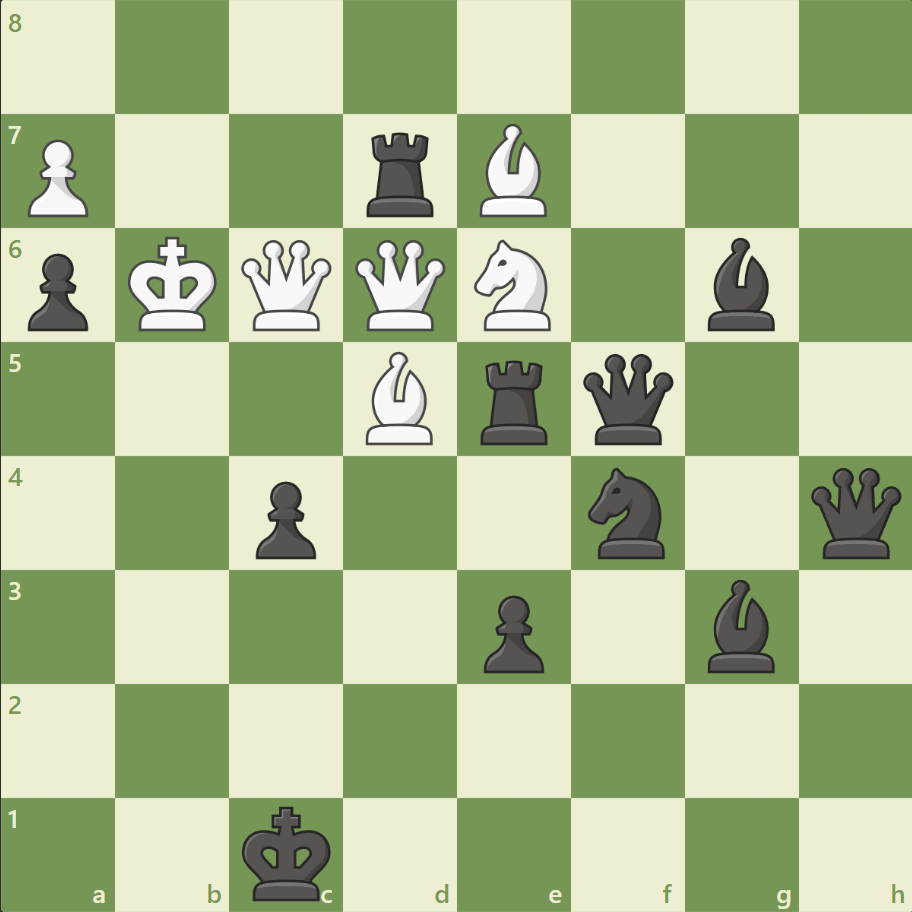B: (471, 120, 555, 222), (358, 347, 442, 449)
K: (124, 231, 224, 339)
N: (465, 234, 562, 337)
P: (20, 132, 95, 223)
Q: (237, 236, 336, 335), (351, 236, 450, 335)
b: (698, 233, 782, 336), (698, 574, 782, 676)
k: (238, 798, 338, 906)
n: (579, 461, 676, 564)
p: (20, 246, 95, 337), (247, 473, 322, 564), (474, 586, 549, 677)
q: (578, 349, 677, 449), (805, 463, 904, 562)
r: (473, 352, 556, 449), (360, 125, 442, 222)
